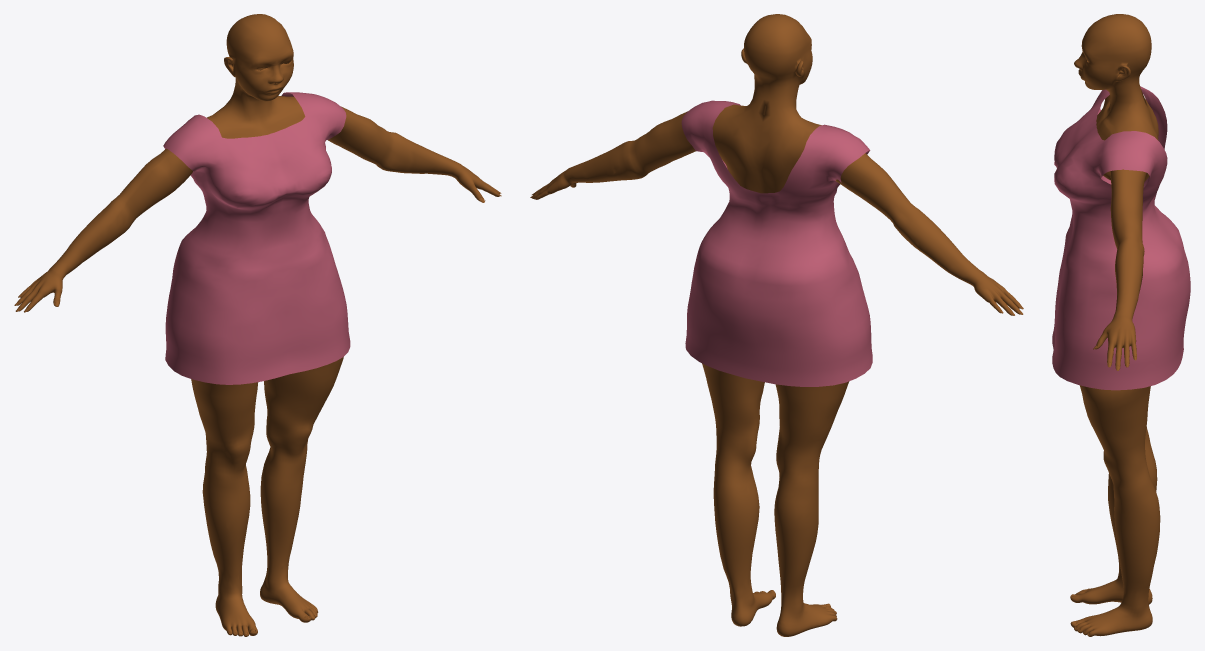
Rendered from dress7.glb.
3 renders of one model, left to right at view 1: azimuth 30°, elevation 25°; view 2: azimuth 150°, elevation 25°; view 3: azimuth 270°, elevation 25°, orthographic.
Parts seen in each view (by area): view 1: Jennifer.F_Dress_01, Body; view 2: Body, Jennifer.F_Dress_01; view 3: Jennifer.F_Dress_01, Body.
Boxes of the visible parts, x1,y1,x2,y2 form: Jennifer.F_Dress_01: [163, 92, 350, 384]; Body: [17, 14, 500, 636]; Body: [532, 14, 1020, 636]; Jennifer.F_Dress_01: [681, 100, 872, 386]; Jennifer.F_Dress_01: [1052, 86, 1190, 390]; Body: [1070, 14, 1160, 636].
Size of the model in its own units: 1.58 by 1.85 by 0.3879.
